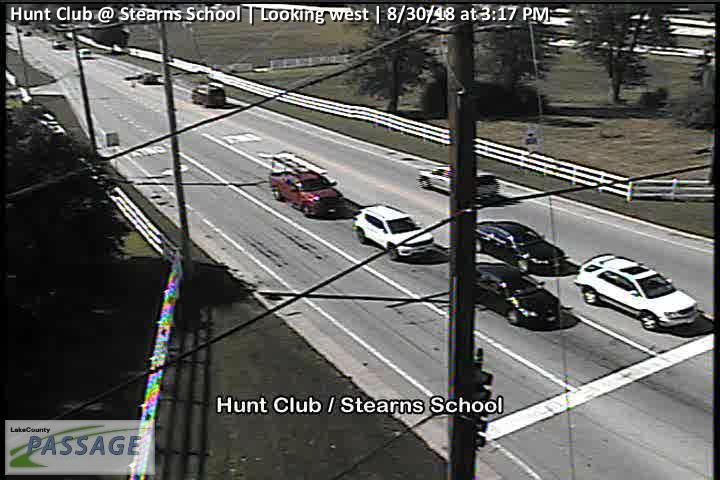SUV: (574, 254, 700, 331), (352, 205, 434, 259), (272, 169, 343, 218)
Sedan: (473, 262, 562, 331), (473, 220, 566, 275), (416, 165, 499, 199)
